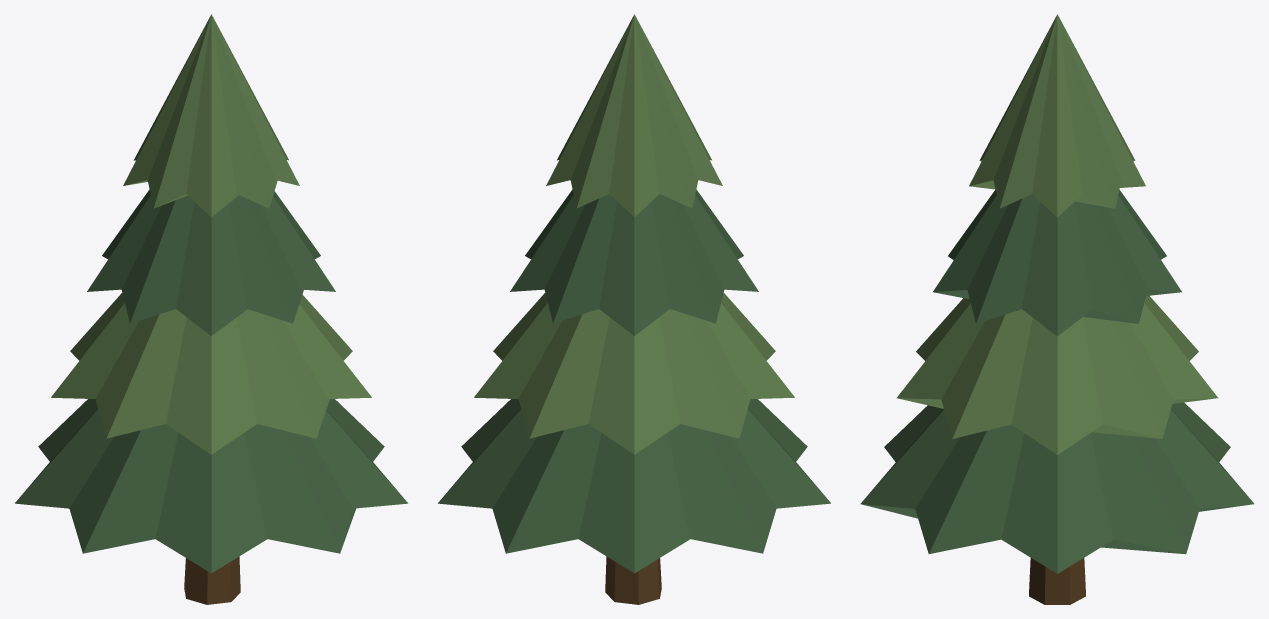
File: SM_Fir_03.fbx
The picture shows the model from 3 angles, left to right: view 1: azimuth 30°, elevation 25°; view 2: azimuth 150°, elevation 25°; view 3: azimuth 270°, elevation 25°; orthographic projection.
Parts seen in each view (by area): view 1: SM_Fir_03; view 2: SM_Fir_03; view 3: SM_Fir_03.
Boxes of the visible parts, left/top/right/bottom form: SM_Fir_03: left=15, top=14, right=407, bottom=604; SM_Fir_03: left=438, top=14, right=830, bottom=604; SM_Fir_03: left=860, top=14, right=1254, bottom=604.
Bounding box in the file's own units: 4.23 × 4.29 × 6.96.
